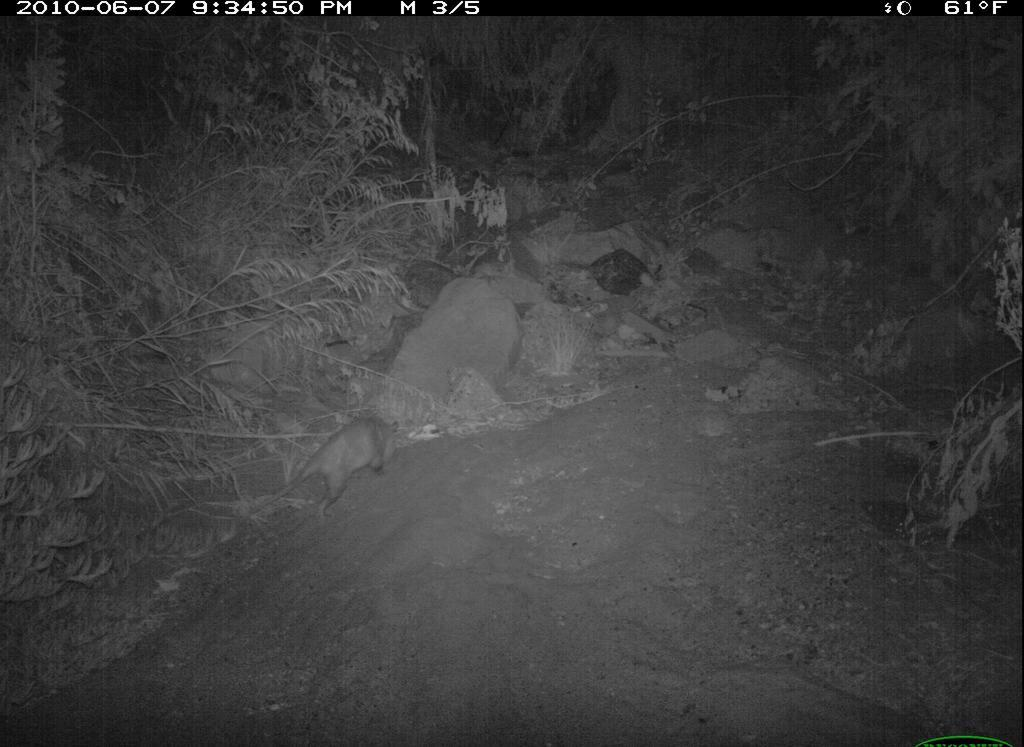opossum: (260, 408, 406, 528)
